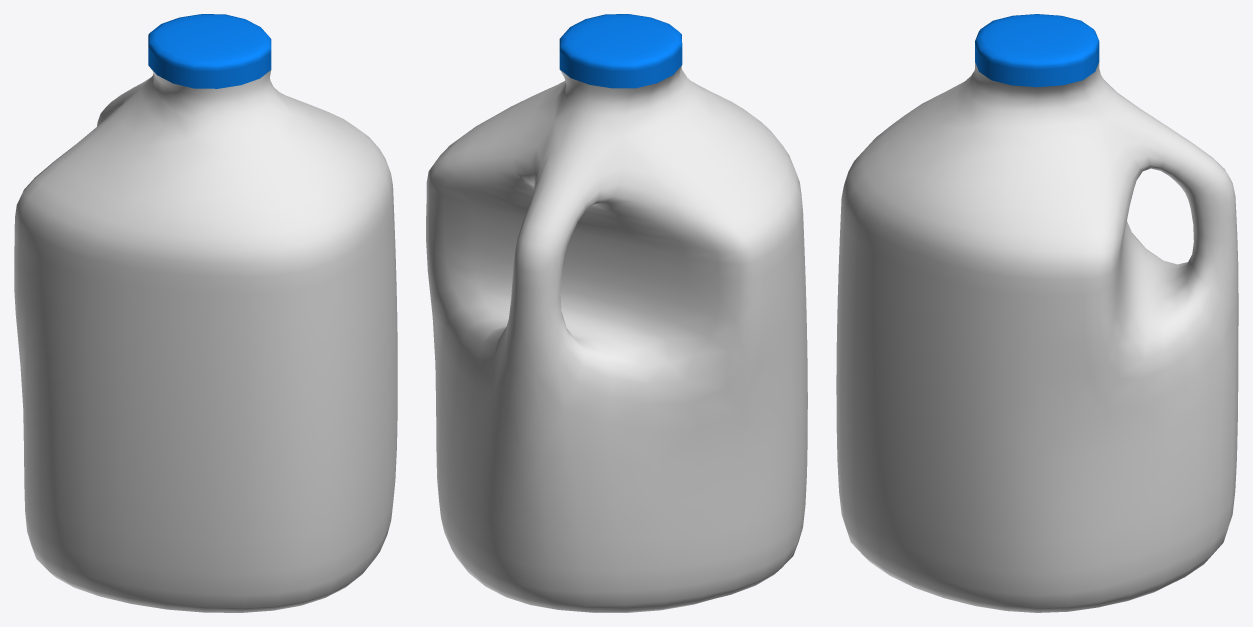
File: milkjug.fbx
3 renders of one model, left to right at view 1: azimuth 30°, elevation 25°; view 2: azimuth 150°, elevation 25°; view 3: azimuth 270°, elevation 25°, orthographic.
Visible parts, largest first — view 1: Cube.001; view 2: Cube.001; view 3: Cube.001.
Part boxes in pixels (bbox=[...]): Cube.001: bbox=[14, 14, 397, 612]; Cube.001: bbox=[426, 14, 807, 612]; Cube.001: bbox=[836, 14, 1238, 612].
Bounding box in the file's own units: 83.93 × 122 × 86.26.
1 material, 1 textured.
